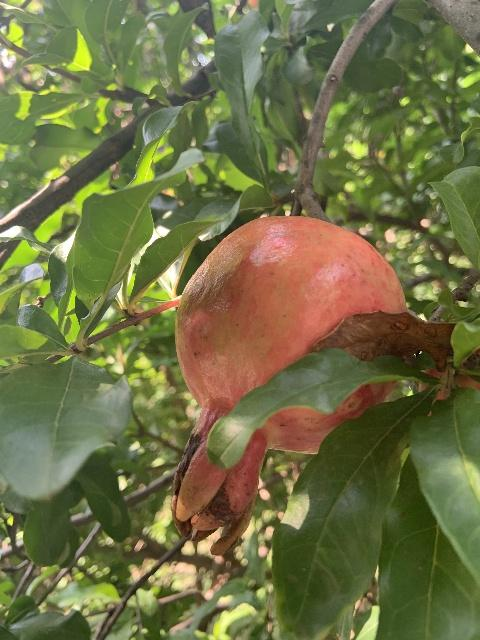ripe: (170, 213, 405, 556)
